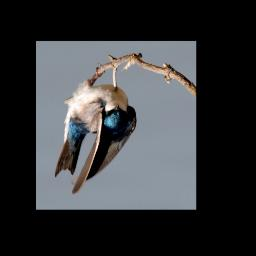Swallow: (53, 63, 137, 196)
